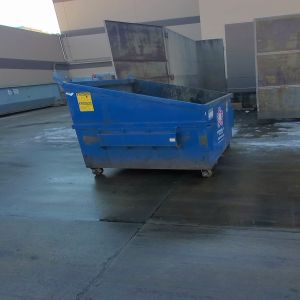Dumpster: (64, 85, 236, 179)
